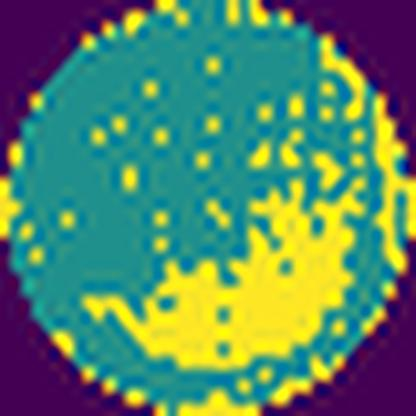Loc: (85, 164, 365, 371)
